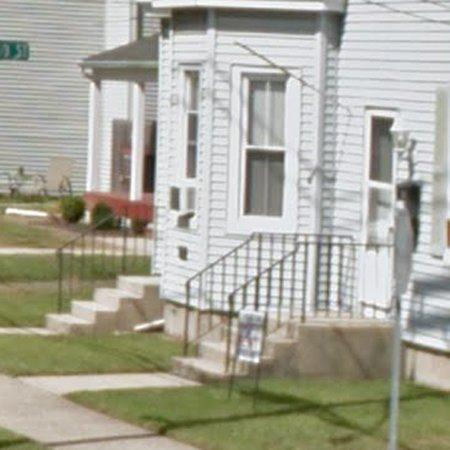stairs: (171, 297, 307, 383), (46, 276, 161, 333)
